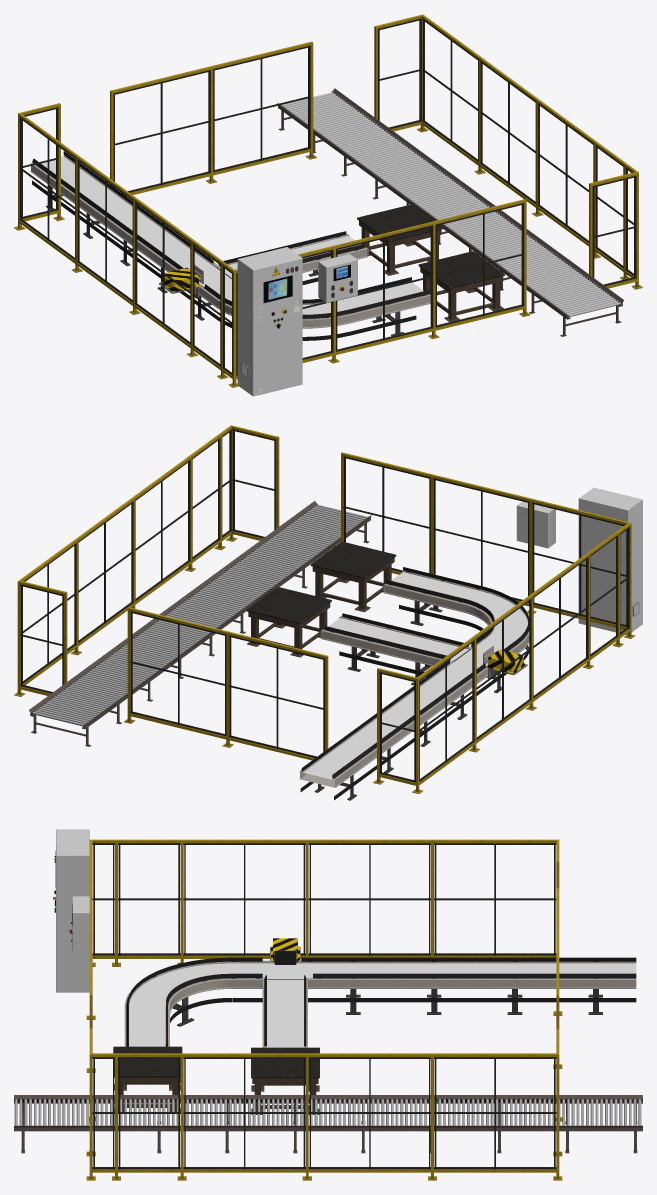
The model's file is ConveyorLine.fbx.
3 views of the same model, one above another, from view 1: azimuth 30°, elevation 25°; view 2: azimuth 150°, elevation 25°; view 3: azimuth 270°, elevation 25° (orthographic). The views are drawn at different scales.
Parts seen in each view (by area): view 1: Cage, ConveyorBelt.001, ElectricBox01, BeltBase, TableUnderRobot.001, TableUnderRobot, ElectricBox02; view 2: Cage, ConveyorBelt.001, ElectricBox01, BeltBase, TableUnderRobot.001, TableUnderRobot, ElectricBox02; view 3: Cage, ConveyorBelt.001, BeltBase, ElectricBox01, TableUnderRobot, TableUnderRobot.001, ElectricBox02.
Part boxes in pixels (x1,y1,x2,y2): Cage: [14, 14, 642, 387]; ConveyorBelt.001: [30, 151, 430, 340]; ElectricBox01: [237, 247, 302, 396]; BeltBase: [277, 88, 623, 336]; TableUnderRobot.001: [418, 251, 504, 321]; TableUnderRobot: [357, 204, 443, 275]; ElectricBox02: [318, 254, 357, 302]; Cage: [14, 425, 635, 793]; ConveyorBelt.001: [299, 567, 529, 800]; ElectricBox01: [578, 487, 642, 634]; BeltBase: [29, 501, 371, 746]; TableUnderRobot.001: [310, 541, 396, 612]; TableUnderRobot: [246, 587, 331, 657]; ElectricBox02: [516, 501, 555, 548]; Cage: [86, 839, 562, 1180]; ConveyorBelt.001: [124, 938, 636, 1047]; BeltBase: [14, 1095, 642, 1153]; ElectricBox01: [53, 829, 89, 992]; TableUnderRobot: [251, 1047, 319, 1114]; TableUnderRobot.001: [113, 1046, 182, 1111]; ElectricBox02: [69, 896, 89, 951].
Size of the model in its own units: 747 by 229 by 912.
